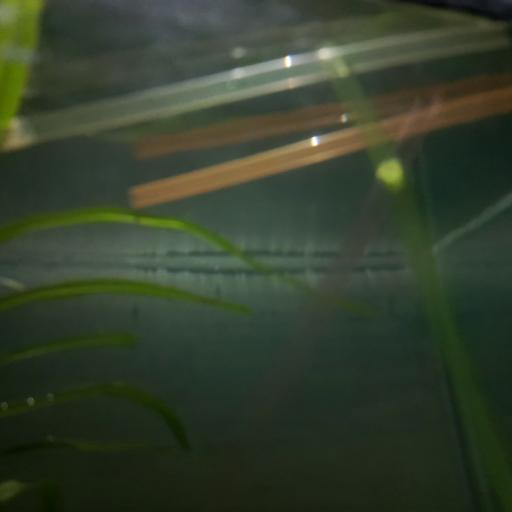plastic_straw: (7, 27, 512, 148), (134, 98, 512, 208), (127, 86, 512, 168)
